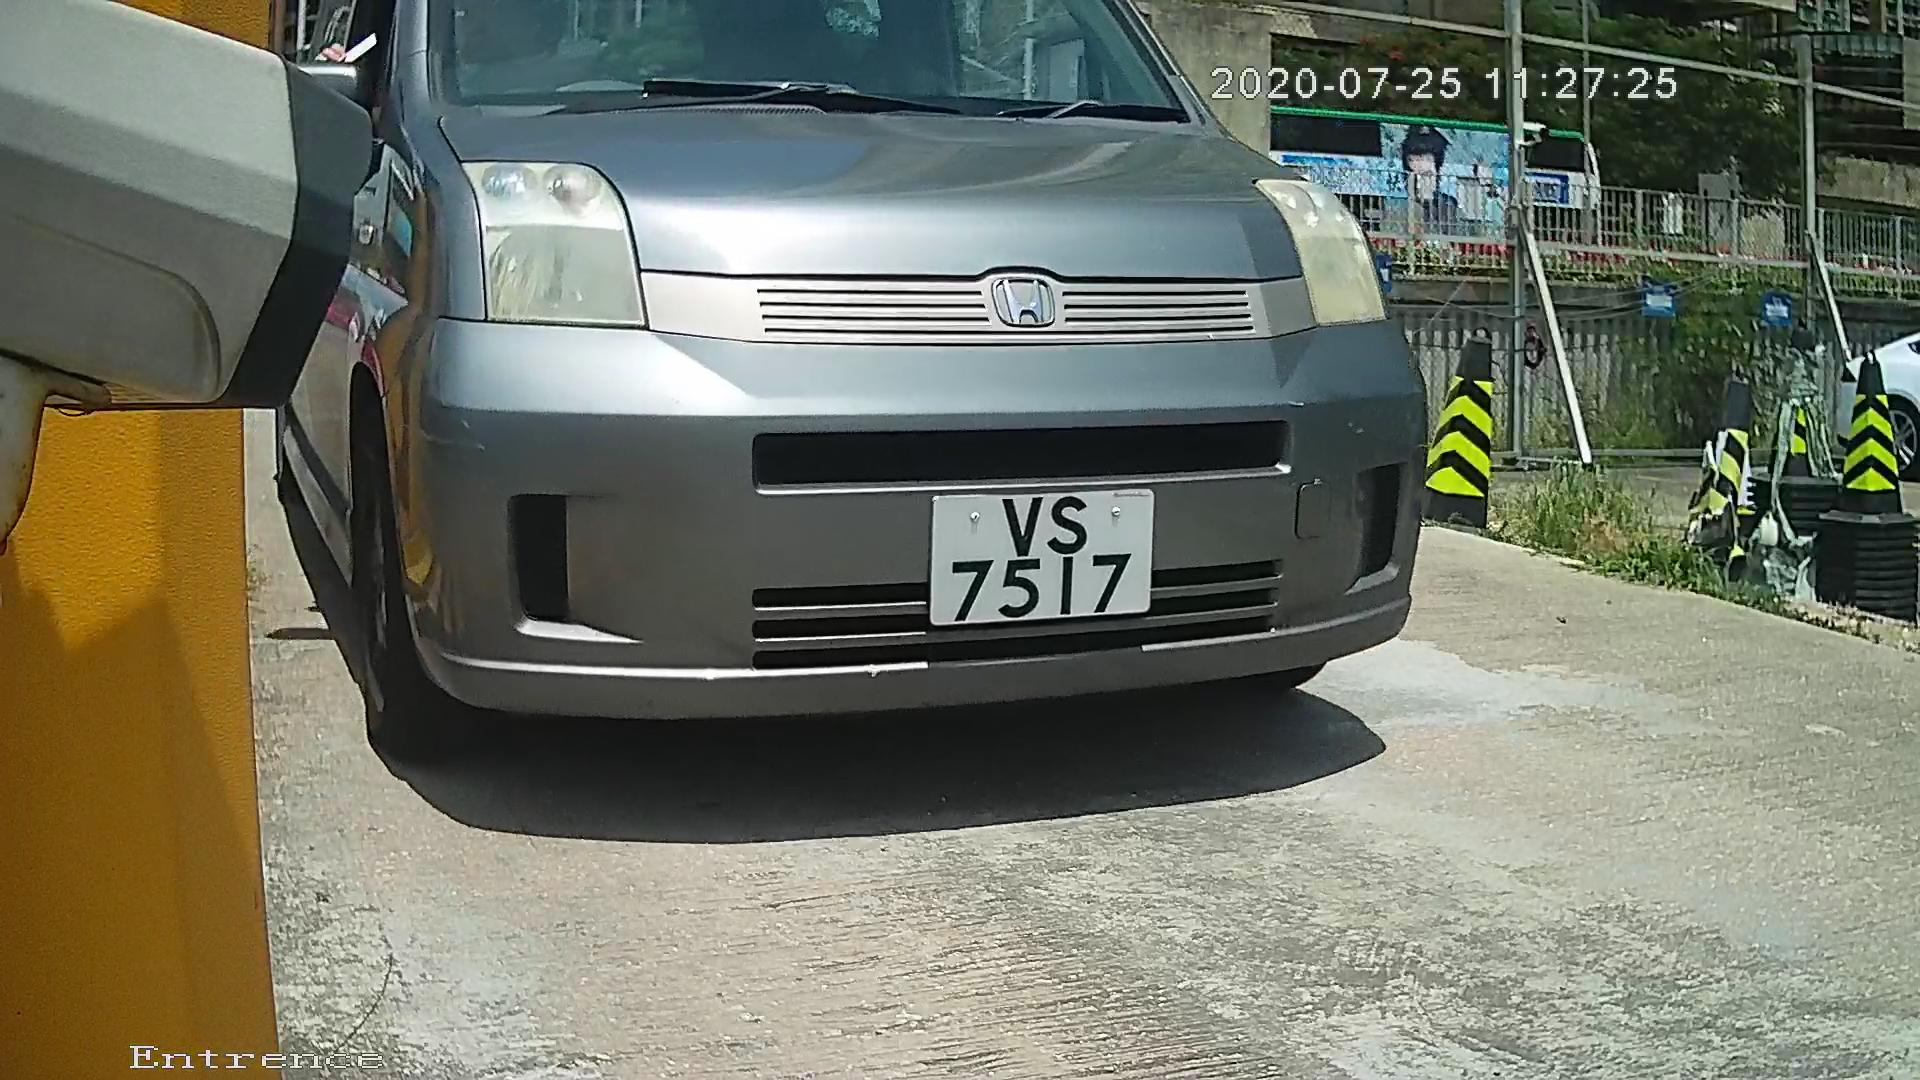License Plate: (901, 478, 1175, 647)
